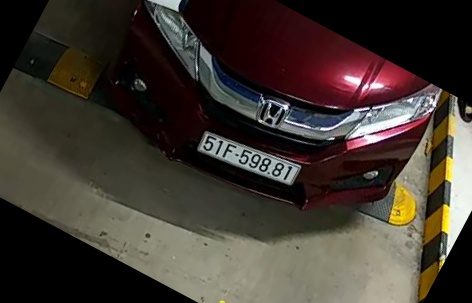plate: (194, 127, 305, 188)
